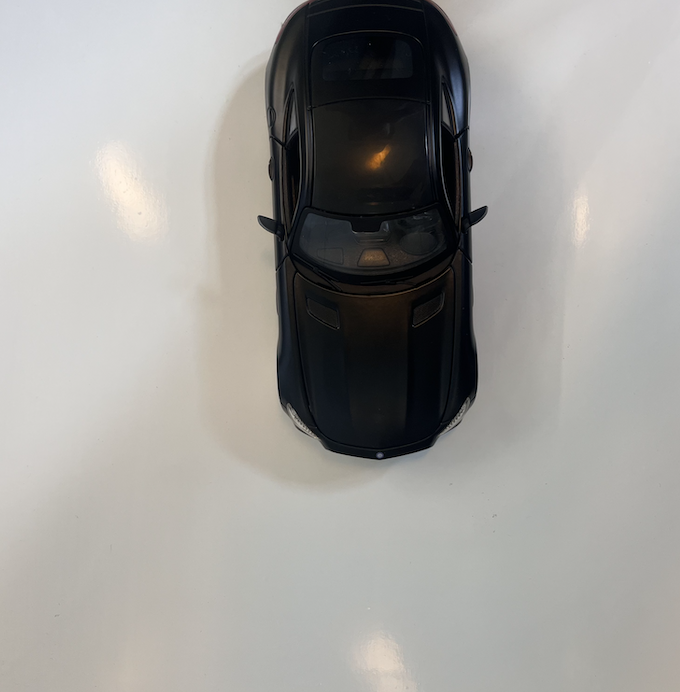car: (257, 2, 489, 460)
